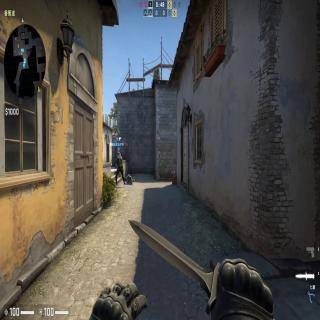CT-Body: (115, 151, 125, 186)
CT-Head: (117, 152, 121, 156)
